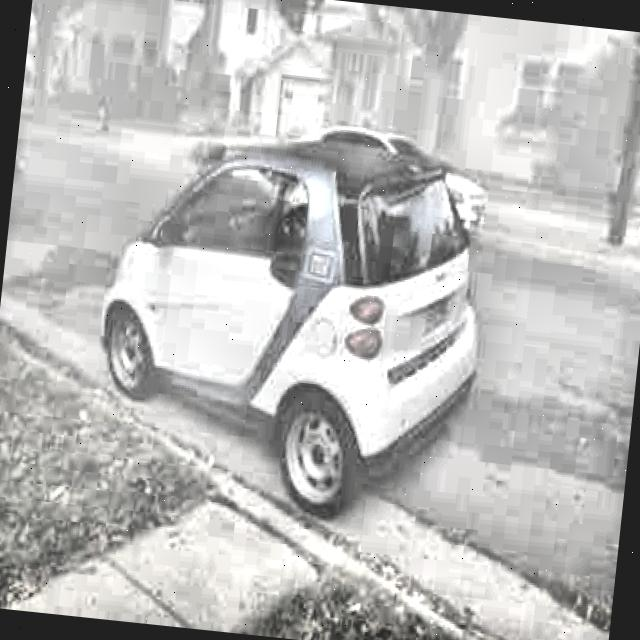license_plate: (418, 297, 448, 344)
